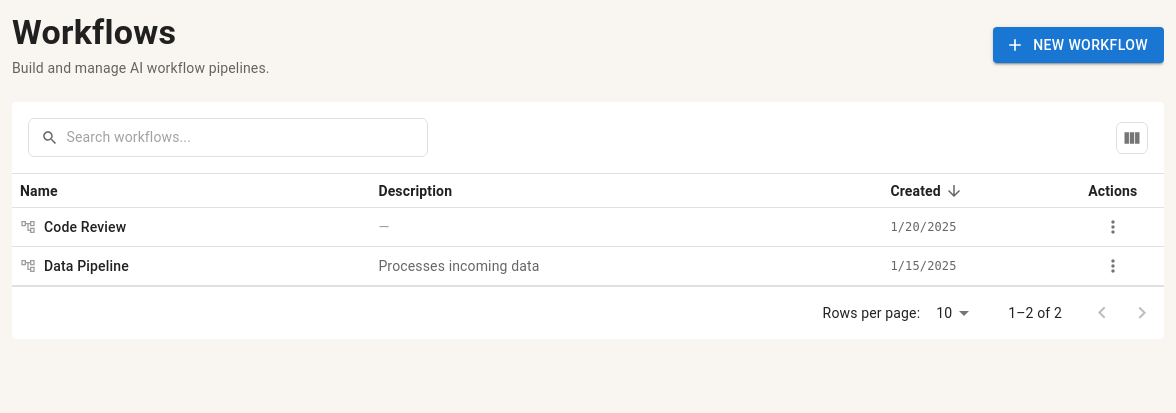
it: WorkflowsPage › shows action menu items including Open Editor, Edit Details, and Delete
Click the button named "Actions for" at (1113, 227), box [1098,212,1128,242]
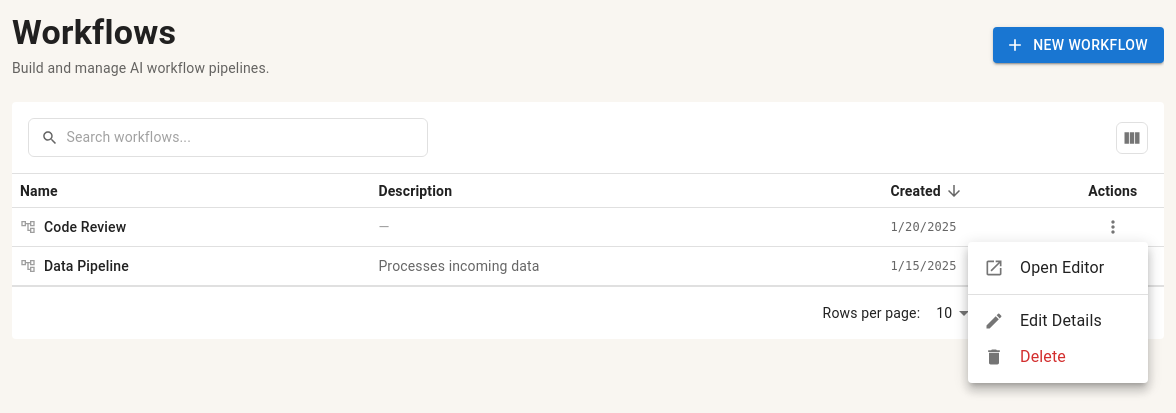
Now the text "Open Editor" is shown, box [1020,258,1104,277]
Now the text "Edit Details" is shown, box [1020,311,1102,330]
Now the text "Delete" is shown, box [1020,347,1066,366]
